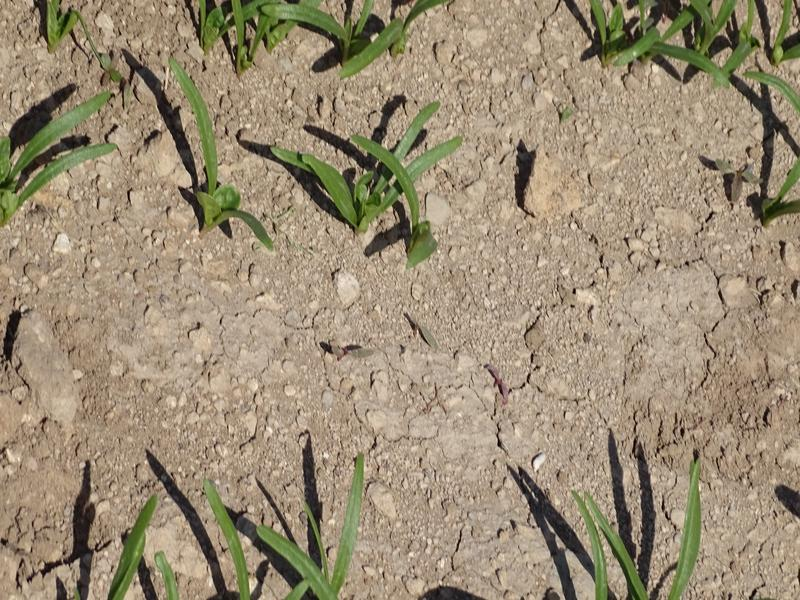Espinaca: (113, 448, 372, 600), (279, 113, 463, 267), (575, 460, 720, 600), (174, 55, 275, 247), (567, 6, 800, 76), (182, 1, 414, 66), (1, 85, 115, 207)
